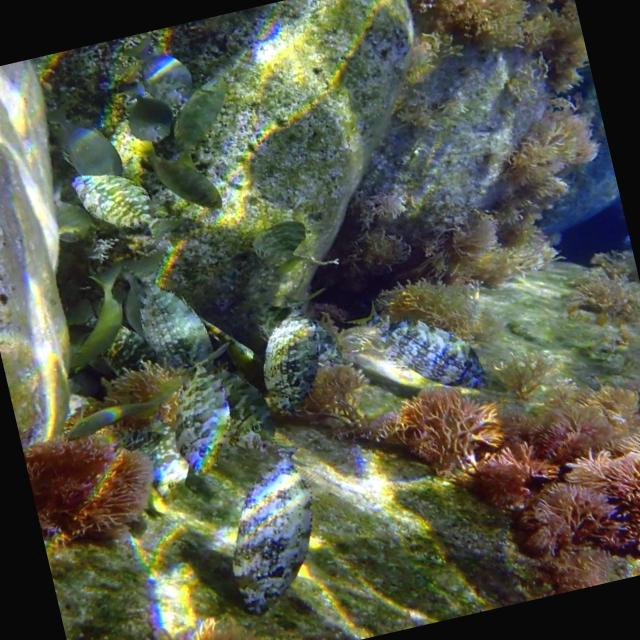Sokar Baligi: (188, 410, 372, 630), (341, 272, 519, 425), (62, 143, 197, 263)
